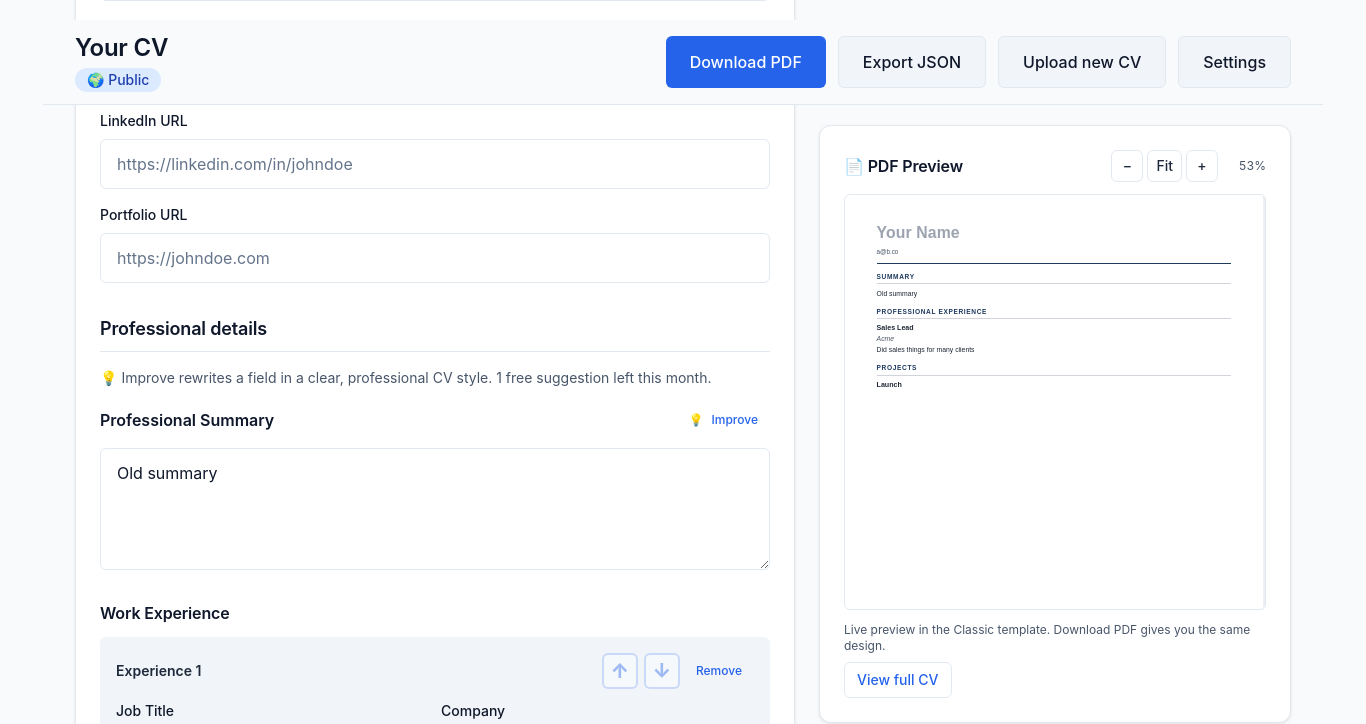
Test: 💡 guard: names not in the CV › asks the user to add a missing employer first, and still offers the suggestion
The width and height of the screenshot is (1366, 724).
(page scrolled)
Click the button with aria-label "Improve Professional Summary" at {"x": 723, "y": 420}, box [676, 404, 770, 436]
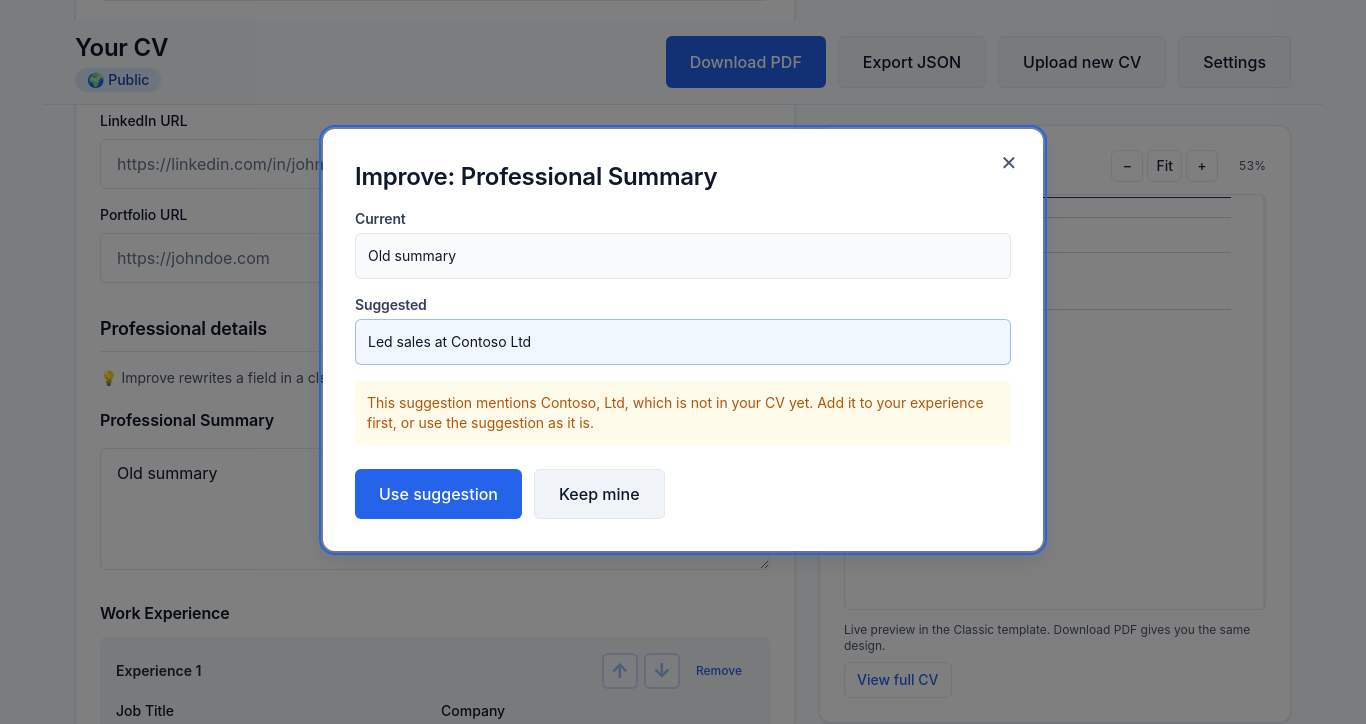
Expected: the text "This suggestion mentions Contoso, Ltd, which is not in your CV yet." is shown, [355, 381, 1011, 445]
Expected: the button "Use suggestion" is enabled, [355, 469, 522, 519]
